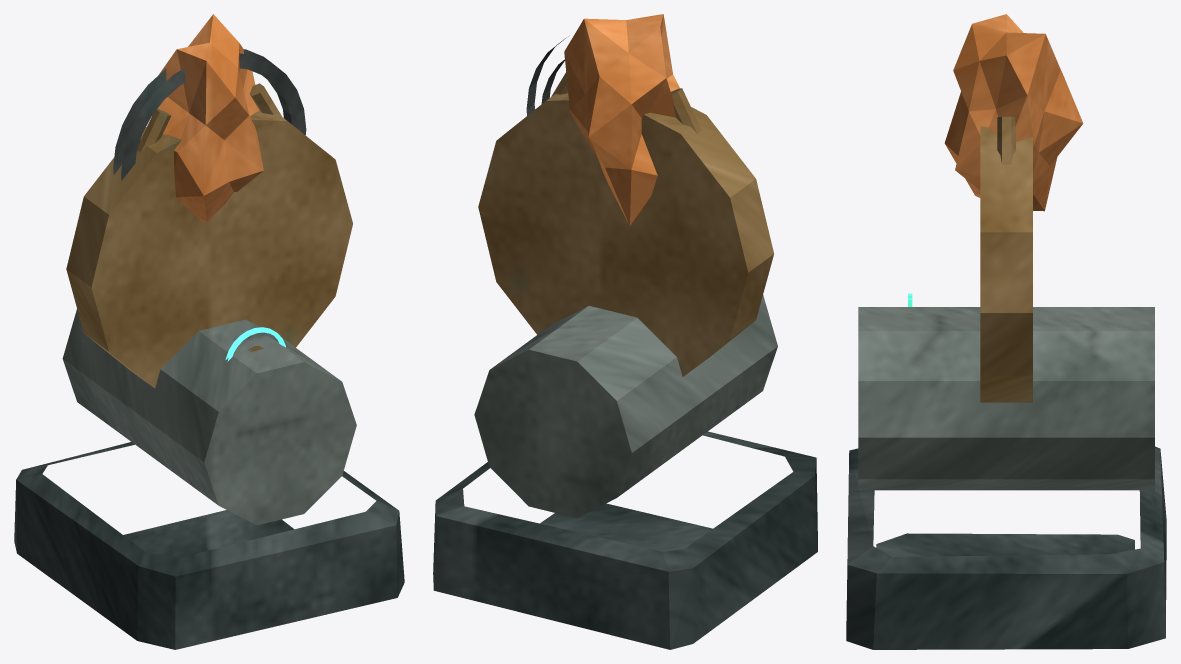
Rendered from 0587_relic_pedestal_12.glb.
3 renders of one model, left to right at view 1: azimuth 30°, elevation 25°; view 2: azimuth 150°, elevation 25°; view 3: azimuth 270°, elevation 25°, orthographic. The views are drawn at different scales.
Visible parts, largest first — view 1: brass, stone_dark, stone, amber, iron; view 2: brass, stone_dark, stone, amber, iron; view 3: stone, stone_dark, amber, brass.
Boxes of the visible parts, bbox=[...] form: brass: bbox=[66, 83, 352, 388]; stone_dark: bbox=[14, 442, 404, 649]; stone: bbox=[62, 309, 356, 525]; amber: bbox=[157, 14, 263, 222]; iron: bbox=[113, 49, 306, 180]; brass: bbox=[478, 72, 773, 376]; stone_dark: bbox=[433, 431, 817, 649]; stone: bbox=[474, 295, 777, 518]; amber: bbox=[564, 14, 679, 225]; iron: bbox=[526, 36, 568, 115]; stone: bbox=[858, 307, 1154, 490]; stone_dark: bbox=[846, 446, 1166, 649]; amber: bbox=[944, 14, 1083, 211]; brass: bbox=[908, 116, 1032, 402].
Bounding box in the file's own units: 0.9617 × 1.9 × 0.9721.
6 materials, 6 textured.
